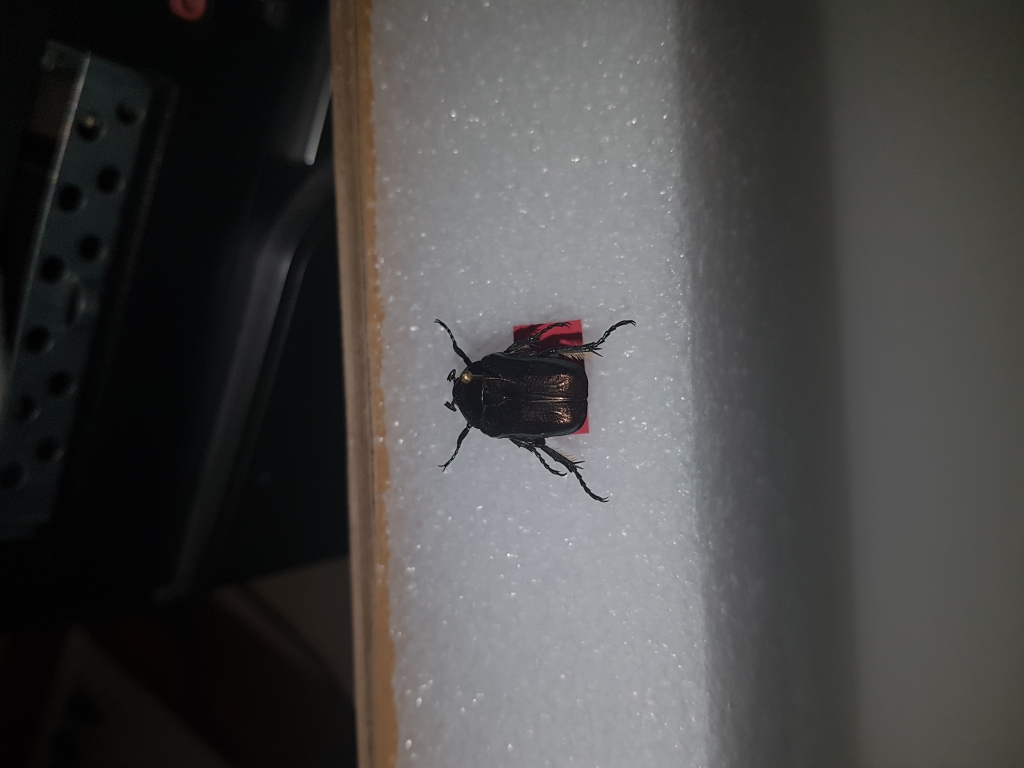Protaetia_besucheti: (428, 308, 661, 513)
